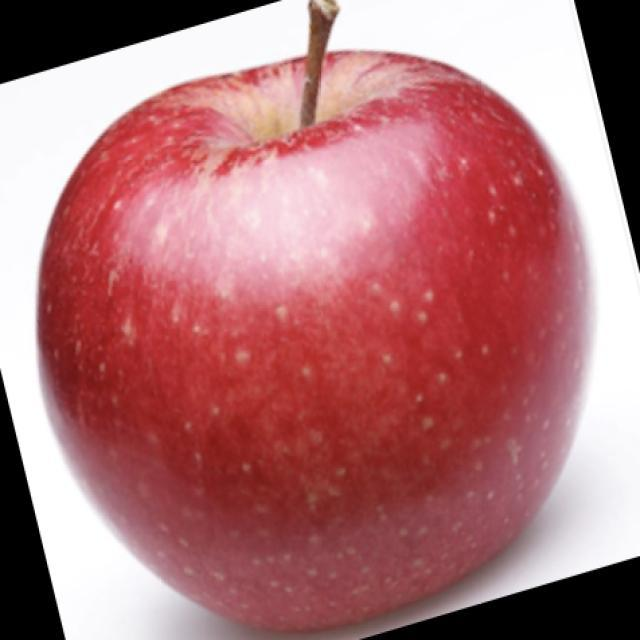Apple: (34, 2, 597, 634)
